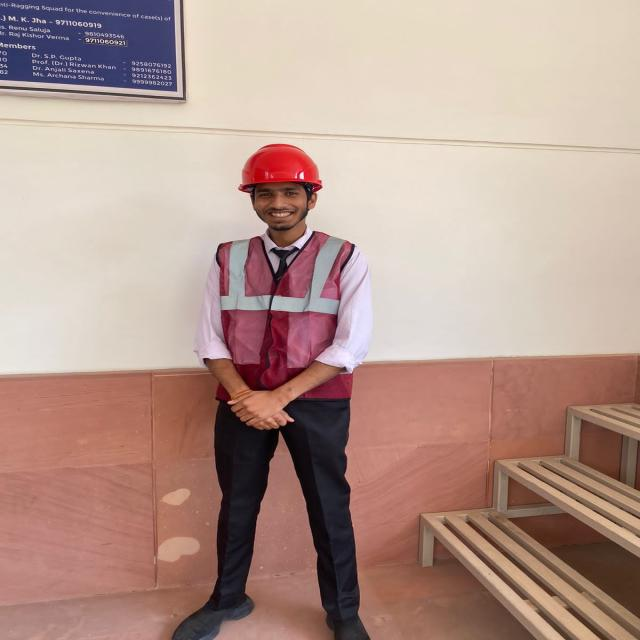safe: (196, 143, 377, 640)
